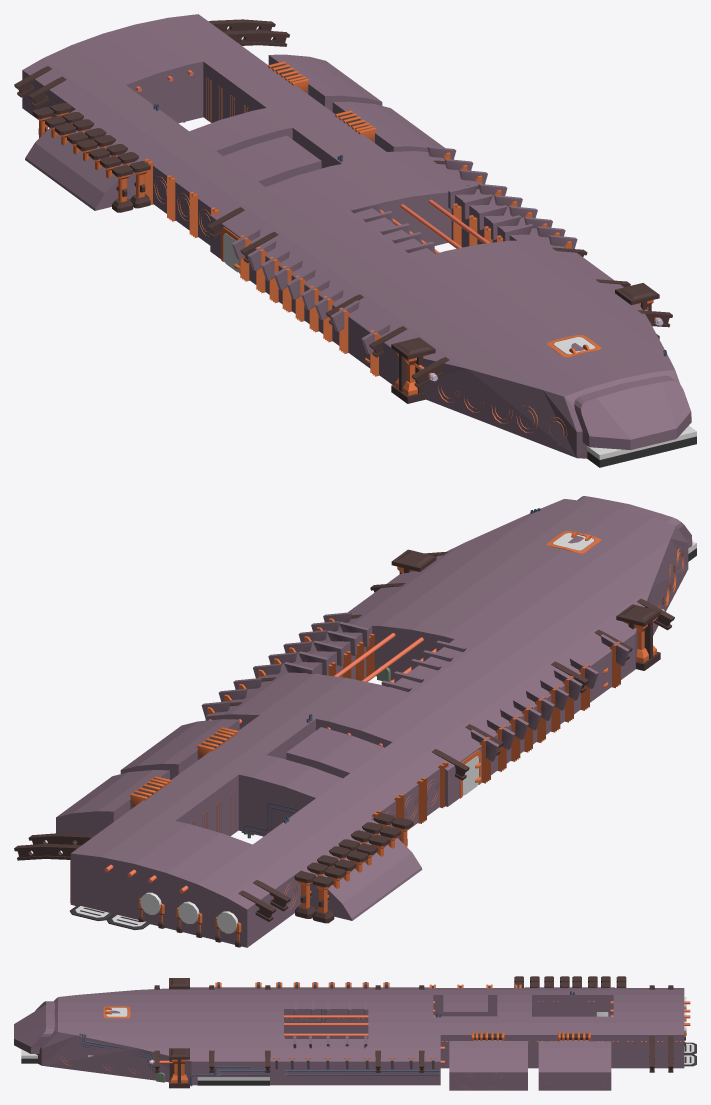
File: ship.fbx
3 renders of one model, top to bottom at view 1: azimuth 30°, elevation 25°; view 2: azimuth 150°, elevation 25°; view 3: azimuth 270°, elevation 25°, orthographic. The views are drawn at different scales.
Visible parts, largest first — view 1: ship; view 2: ship; view 3: ship.
Part boxes in pixels (box(x1,y1,x2,y2)): ship: box(14, 14, 696, 467); ship: box(14, 496, 696, 947); ship: box(14, 976, 696, 1090).
Bounding box in the file's own units: 1445 × 307 × 4427.
